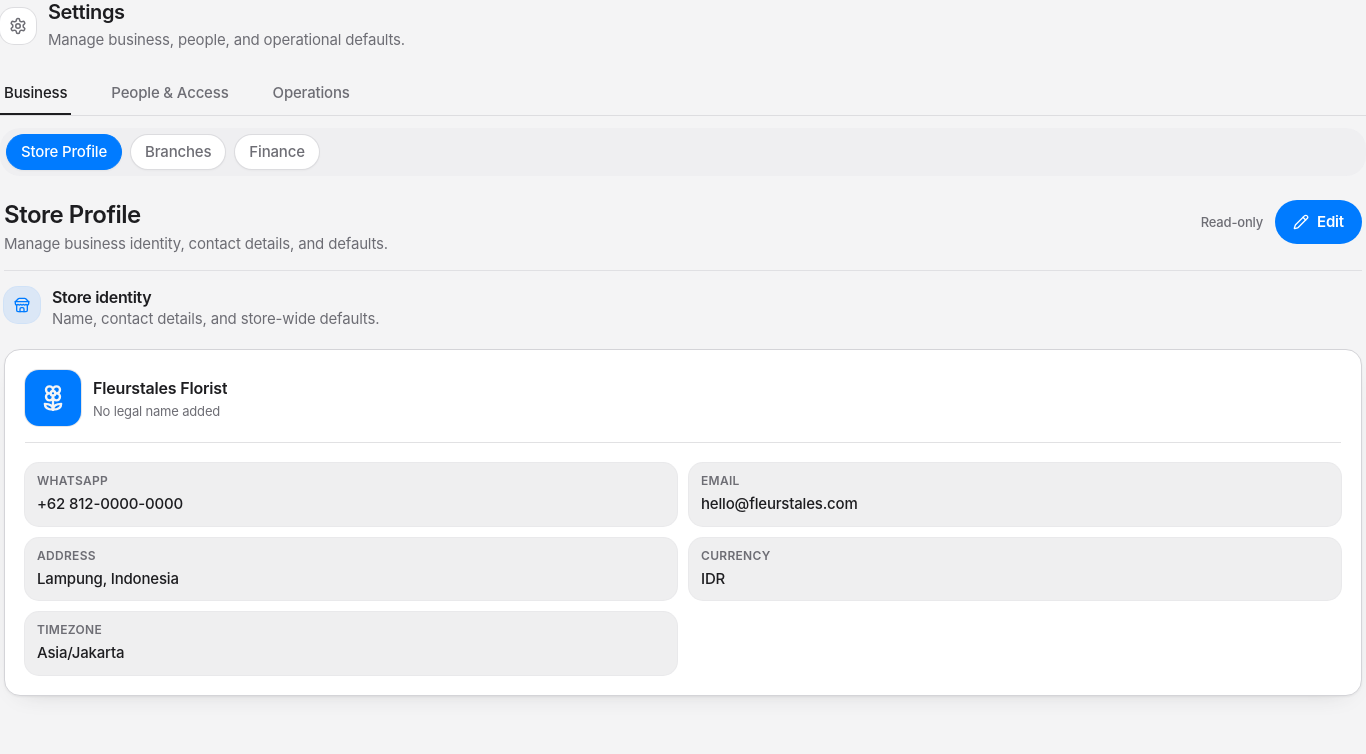
it: Owner Settings parent and sub-tab navigation › opens the first sub-tab whenever a parent category is clicked
Click the button "People & Access" at (170, 93), box left=107, top=71, right=232, bottom=115
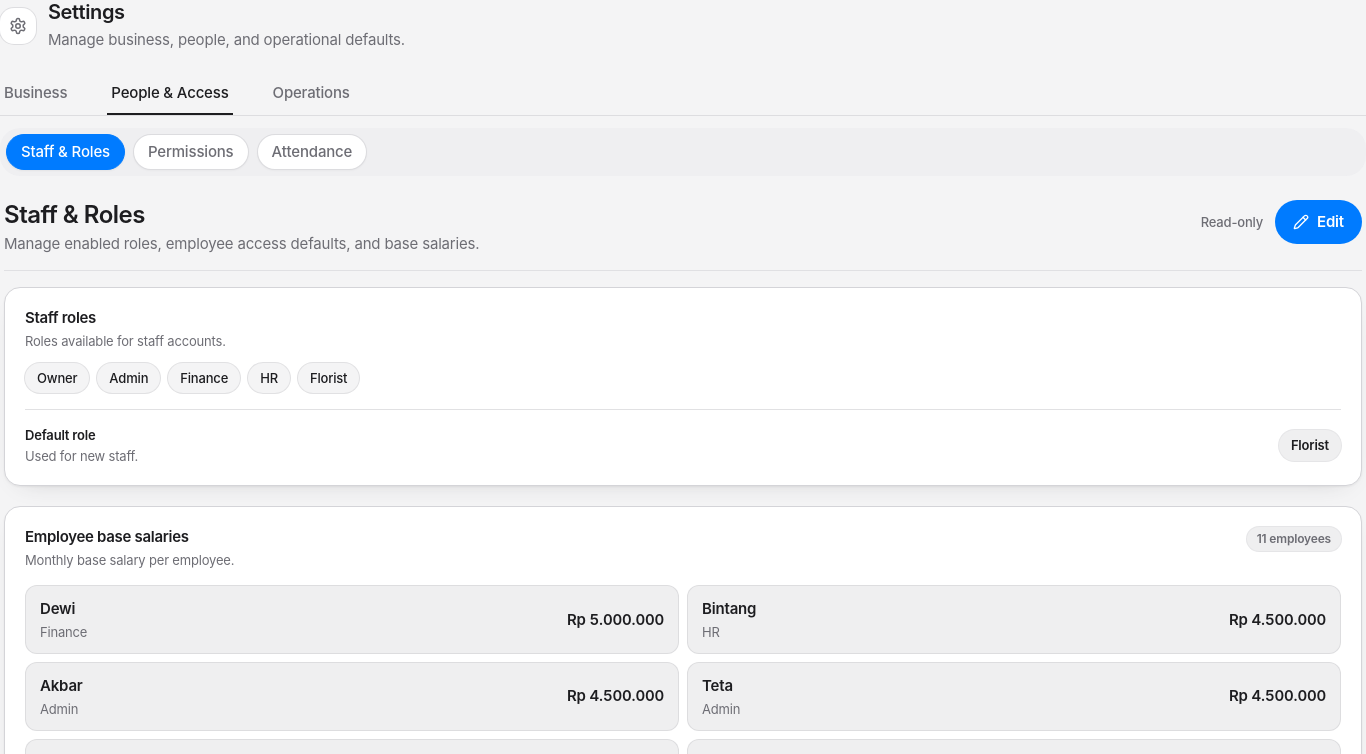
Expected: the heading "Staff & Roles" is shown, left=4, top=200, right=145, bottom=230
Click the button "Operations" at (311, 93), box left=269, top=71, right=354, bottom=115
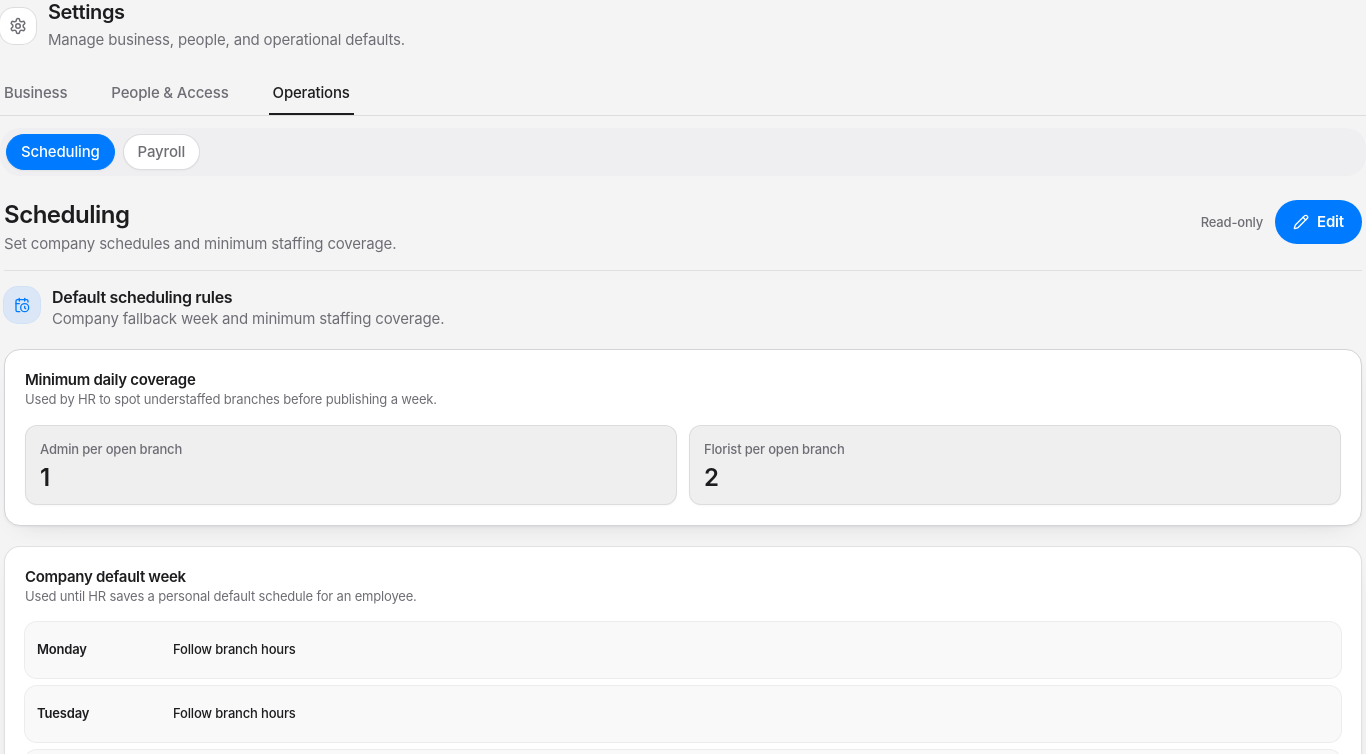
Expected: the heading "Scheduling" is shown, left=4, top=200, right=130, bottom=230
Click the button "Business" at (36, 93), box left=0, top=71, right=71, bottom=115
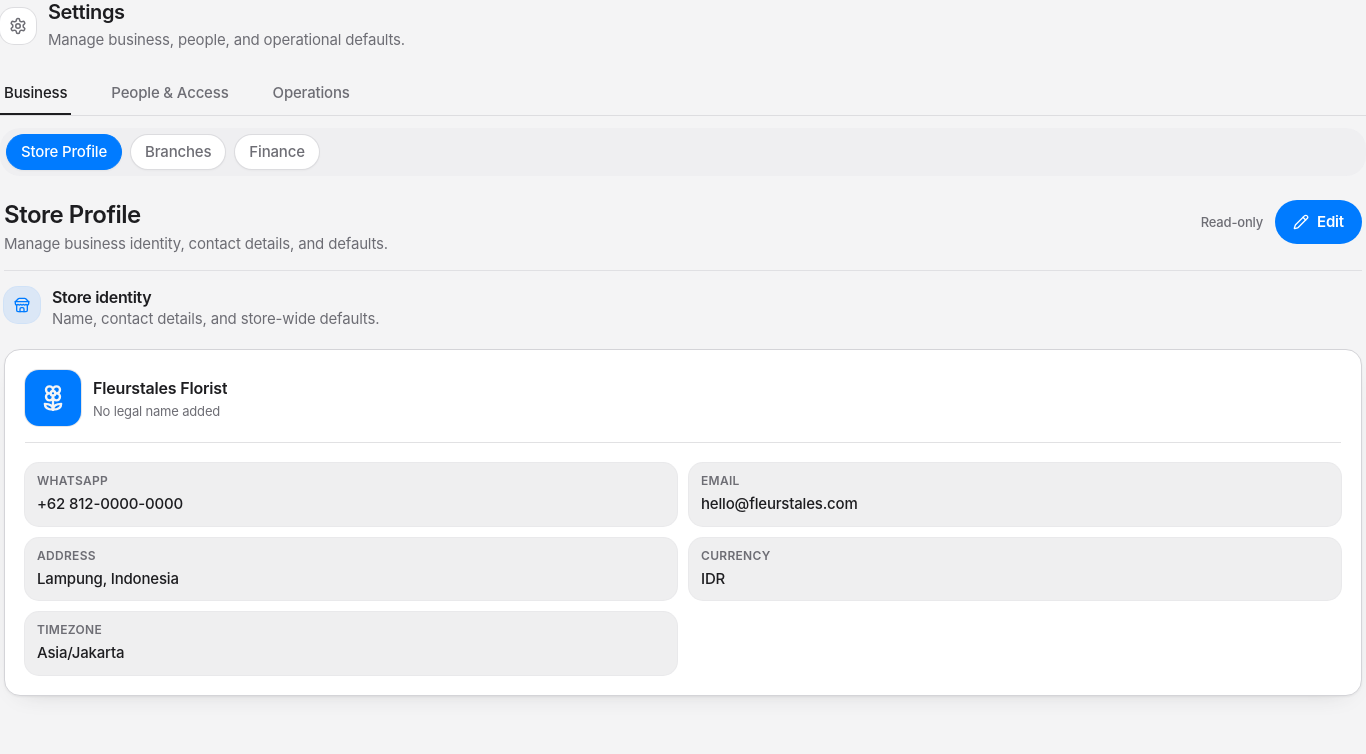
Expected: the heading "Store Profile" is shown, left=4, top=200, right=141, bottom=230
